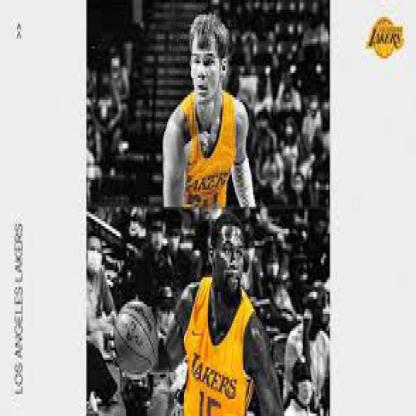basketball: (113, 300, 160, 380)
